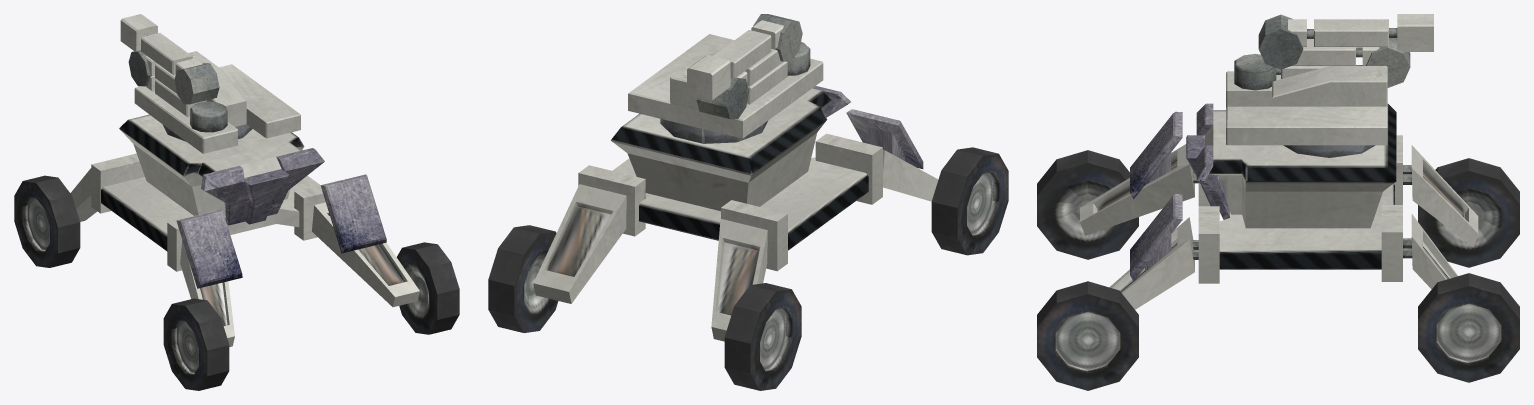
File: robotLight_idle.fbx
3 views of the same model, side by side, from view 1: azimuth 30°, elevation 25°; view 2: azimuth 150°, elevation 25°; view 3: azimuth 270°, elevation 25° (orthographic). The views are drawn at different scales.
Parts seen in each view (by area): view 1: robotBody_mesh, robotLeg_f_L_mesh, robotCylinder_mesh, robotWheel_b_R_mesh, robotWheel_f_R_mesh, robotLeg_f_R_mesh, robotWheel_f_L_mesh, robotArm_R_7_mesh, robotArm_R_9_mesh, robotArm_R_1_mesh, robotArm_L_3_mesh2, robotLeg_b_R_mesh (+2 smaller); view 2: robotBody_mesh, robotCylinder_mesh, robotWheel_f_R_mesh, robotWheel_b_R_mesh, robotLeg_b_L_mesh, robotWheel_b_L_mesh, robotLeg_b_R_mesh, robotLeg_f_R_mesh, robotArm_L_3_mesh2, robotArm_R_9_mesh, robotArm_R_4_mesh, robotArm_R_7_mesh (+4 smaller); view 3: robotBody_mesh, robotCylinder_mesh, robotWheel_b_L_mesh, robotWheel_f_L_mesh, robotWheel_f_R_mesh, robotWheel_b_R_mesh, robotLeg_f_R_mesh, robotLeg_f_L_mesh, robotLeg_b_R_mesh, robotArm_R_9_mesh, robotLeg_b_L_mesh, robotArm_R_7_mesh (+5 smaller).
Boxes of the visible parts, x1,y1,x2,y2 form: robotBody_mesh: [91, 114, 341, 271]; robotLeg_f_L_mesh: [312, 174, 419, 307]; robotCylinder_mesh: [134, 51, 300, 153]; robotWheel_b_R_mesh: [14, 175, 80, 267]; robotWheel_f_R_mesh: [163, 298, 229, 390]; robotLeg_f_R_mesh: [176, 209, 242, 346]; robotWheel_f_L_mesh: [396, 242, 459, 334]; robotArm_R_7_mesh: [174, 63, 219, 104]; robotArm_R_9_mesh: [141, 33, 192, 75]; robotArm_R_1_mesh: [190, 101, 227, 132]; robotArm_L_3_mesh2: [120, 14, 157, 51]; robotLeg_b_R_mesh: [70, 168, 96, 221]; robotBody_mesh: [578, 86, 882, 271]; robotCylinder_mesh: [628, 34, 823, 143]; robotWheel_f_R_mesh: [931, 147, 1008, 255]; robotWheel_b_R_mesh: [724, 283, 801, 390]; robotLeg_b_L_mesh: [533, 184, 626, 303]; robotWheel_b_L_mesh: [488, 225, 558, 332]; robotLeg_b_R_mesh: [711, 219, 767, 341]; robotLeg_f_R_mesh: [846, 109, 938, 201]; robotArm_L_3_mesh2: [687, 55, 730, 100]; robotArm_R_9_mesh: [713, 30, 771, 78]; robotArm_R_4_mesh: [696, 77, 748, 119]; robotArm_R_7_mesh: [753, 14, 802, 61]; robotBody_mesh: [1186, 103, 1402, 283]; robotCylinder_mesh: [1226, 66, 1387, 157]; robotWheel_b_L_mesh: [1418, 273, 1519, 382]; robotWheel_f_L_mesh: [1037, 281, 1138, 390]; robotWheel_f_R_mesh: [1037, 150, 1138, 259]; robotWheel_b_R_mesh: [1418, 158, 1519, 267]; robotLeg_f_R_mesh: [1080, 111, 1198, 235]; robotLeg_f_L_mesh: [1109, 194, 1198, 309]; robotLeg_b_R_mesh: [1403, 145, 1478, 247]; robotArm_R_9_mesh: [1314, 19, 1388, 46]; robotLeg_b_L_mesh: [1403, 214, 1457, 289]; robotArm_R_7_mesh: [1258, 14, 1303, 69].
Bounding box in the file's own units: 20.17 × 18.42 × 28.62.
4 materials, 4 textured.
